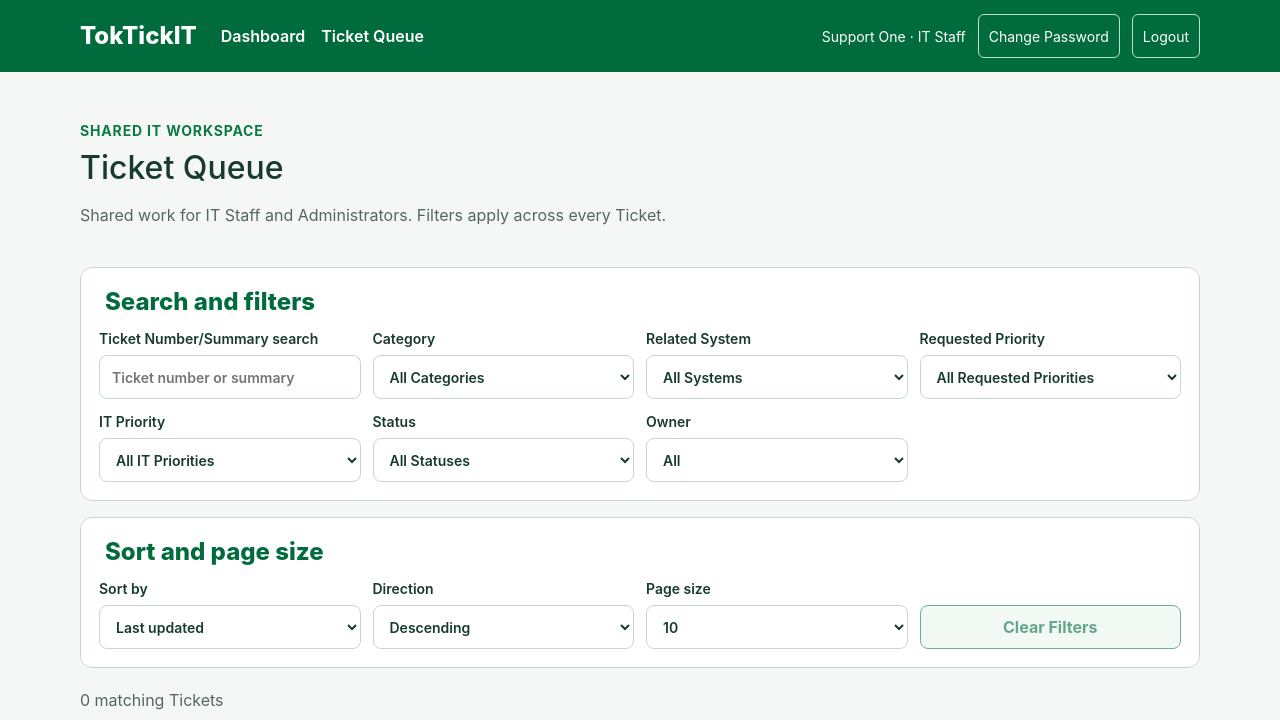
Test case: Lab 3 authenticated shell › clears the account shell after confirmed logout or session revocation
The image size is (1280, 720).
Check: the heading "Ticket Queue" is shown, box [80,148,284,187]
Click the button "Logout".
click(1166, 36)  # box [1132,14,1200,58]
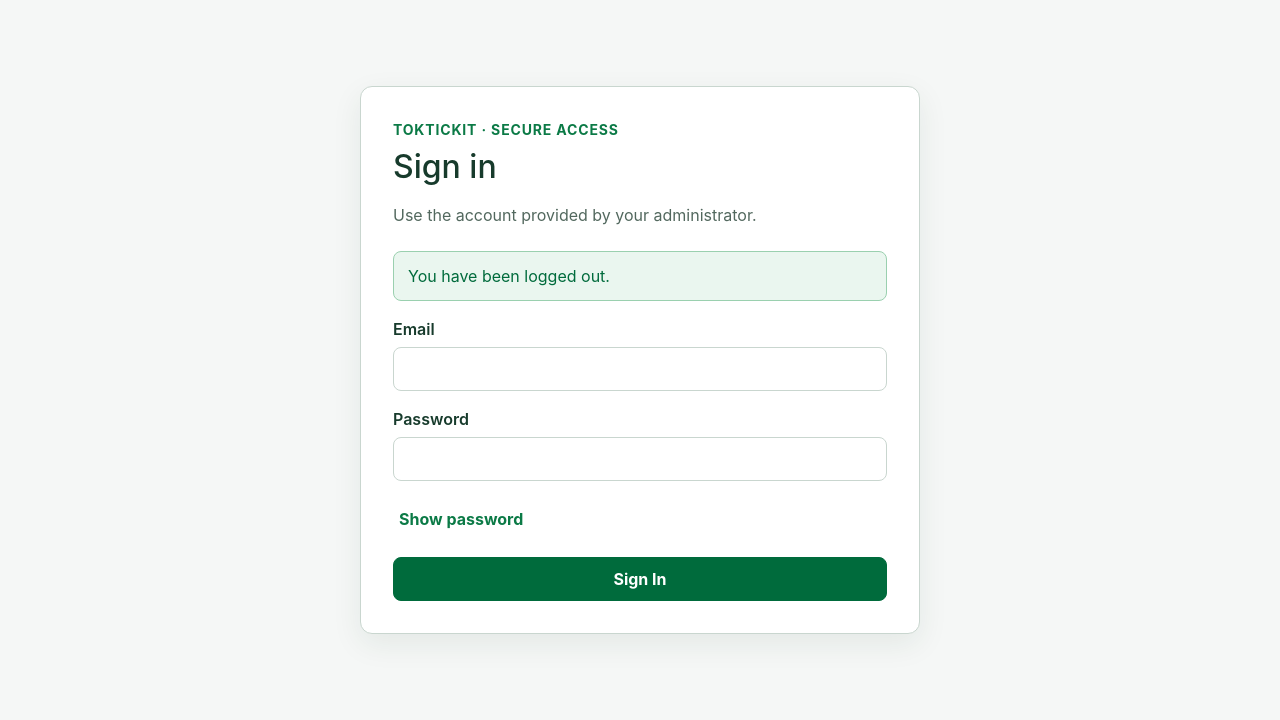
Check: the heading "Sign in" is shown, box [393,147,497,186]
Check: the text "Support One · IT Staff" is gone
